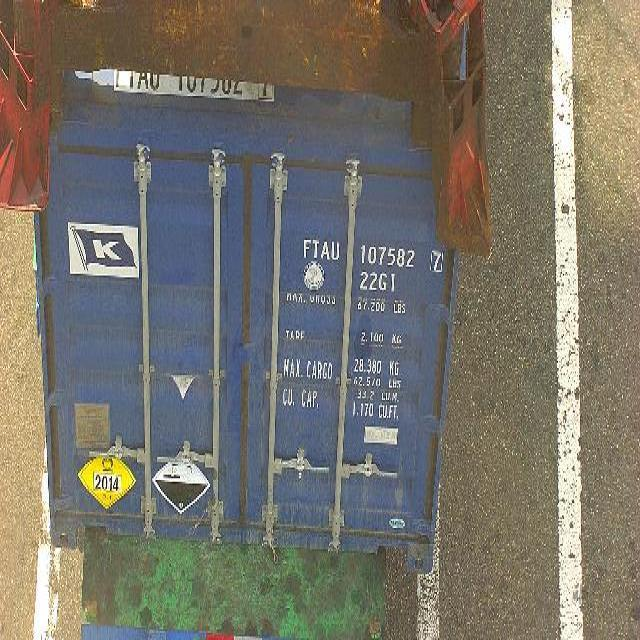ISO: (358, 270, 396, 296)
container_number: (299, 233, 443, 274)
